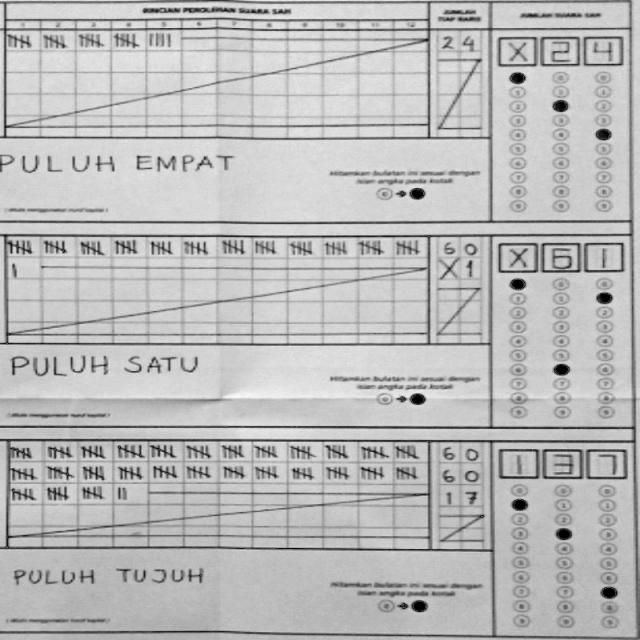Suara: (491, 440, 630, 482), (494, 37, 628, 73), (500, 233, 621, 272)
